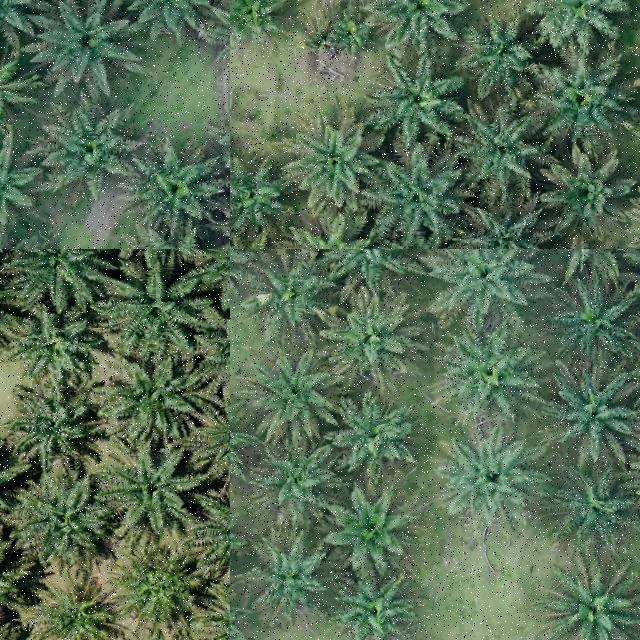Ganoderma: (45, 585, 107, 640)
